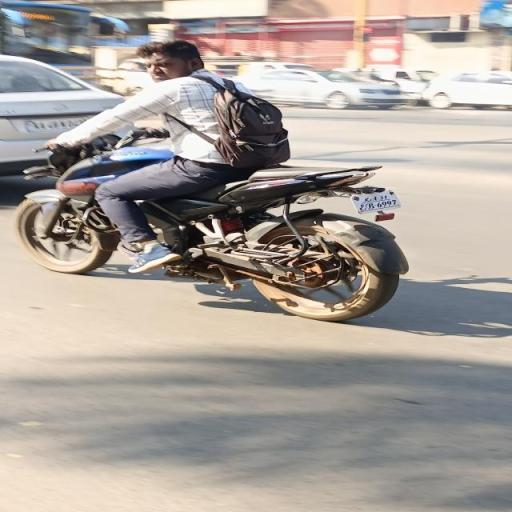bike: (15, 33, 424, 323)
numberplate: (348, 185, 402, 216)
withouthelmet: (144, 41, 200, 78)
